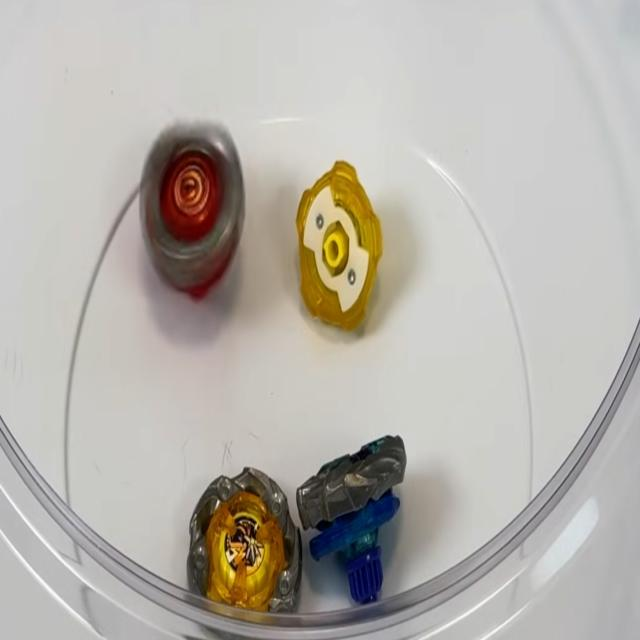Beyblade: (185, 473, 299, 636), (139, 123, 242, 300), (297, 435, 405, 603), (294, 161, 382, 332)
